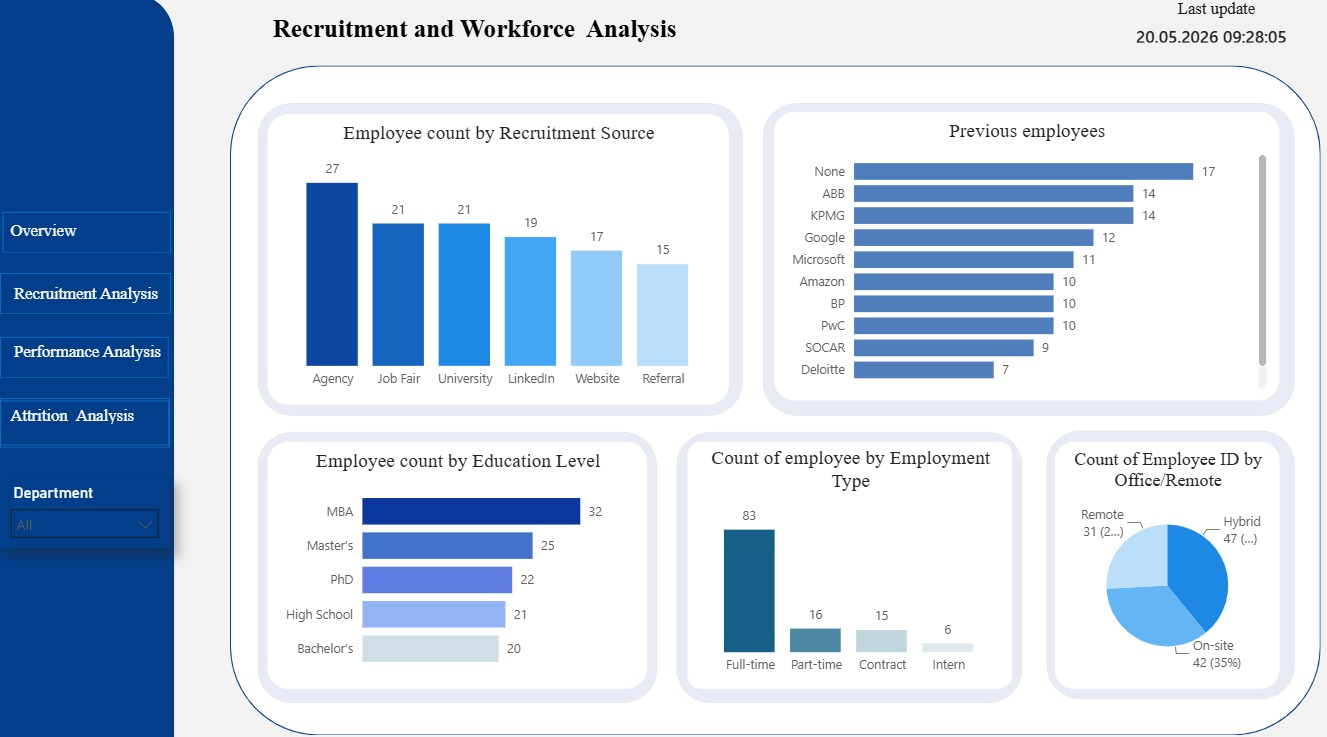

The dashboard page shown, as its layout file describes it:
{"tool":"powerbi","page":{"name":"Page 1","canvas":[1280,720],"ordinal":0},"visuals":[{"type":"shape","box":[220,69.4,1045.9,642.4],"z":0},{"type":"shape","box":[0,0,167.1,721.2],"z":1000},{"type":"textbox","box":[8.2,274.1,184.7,34.1],"z":30000},{"type":"textbox","box":[8.2,329.4,167.1,44.7],"z":31000},{"type":"textbox","box":[8.2,395.3,184.7,47.1],"z":32000},{"type":"textbox","box":[4.7,390.6,167.1,44.7],"z":33000},{"type":"shape","box":[2.4,209.7,161.8,39.6],"z":51000},{"type":"textbox","box":[4.3,213.5,145.7,39],"z":52000},{"type":"shape","box":[0,268.5,164.2,39.6],"z":53000},{"type":"shape","box":[0,329.6,161.8,39.6],"z":54000},{"type":"shape","box":[0,390.6,162.4,45.9],"z":56000},{"type":"shape","box":[0,388.3,163,45.5],"z":61000},{"type":"cardVisual","title":"Last update","fields":{"Rows":["Query1.Column1"]},"box":[1052.4,6.1,228,101.2],"z":62000},{"type":"shape","box":[252.9,92.3,200.1,131.8],"z":63000},{"type":"card","fields":{"Values":["Employee Data.Total Employees"]},"box":[267.3,101.9,185.8,122.2],"z":64000},{"type":"shape","box":[771.8,92.3,200.1,131.8],"z":65000},{"type":"shape","box":[496.2,92.3,200.1,131.8],"z":66000},{"type":"shape","box":[1027.1,92.3,200.1,131.8],"z":67000},{"type":"card","fields":{"Values":["Employee Data.Active Employees"]},"box":[510.6,101.9,185.8,122.2],"z":68000},{"type":"card","fields":{"Values":["Employee Data.Inactive Employees"]},"box":[786.2,101.9,185.8,122.2],"z":69000},{"type":"card","fields":{"Values":["Employee Data.Attrition Rate %"]},"box":[1041.5,101.9,185.8,122.2],"z":70000},{"type":"shape","box":[252.5,252.5,387.5,247.2],"z":71000},{"type":"clusteredBarChart","title":"Attrition rate by Department","fields":{"Category":["Employee Data.Department"],"Y":["Employee Data.Attrition Rate %"]},"box":[259.2,256.5,372.8,236.5],"z":72000},{"type":"shape","box":[658.7,252.5,314,247.2],"z":73000},{"type":"shape","box":[244.5,507.7,528,188.4],"z":74000},{"type":"lineChart","title":"Attrition Rate by Tenure Group","fields":{"Category":["Employee Data.Tenure Group"],"Y":["Employee Data.Attrition Rate %"]},"box":[666.7,257.9,299.3,235.2],"z":75000},{"type":"shape","box":[987.4,251.2,265.9,248.5],"z":76000},{"type":"pivotTable","fields":{"Rows":["Employee Data.Recruitment Source"],"Values":["Employee Data.Attrition Rate %"]},"box":[992.7,255.2,256.5,241.8],"z":77000},{"type":"columnChart","title":"Attrition Rate by Performance Rating (Current Year)","fields":{"Category":["Employee Data.Performance Rating (Current Year)"],"Y":["Employee Data.Attrition Rate %"]},"box":[252.5,514.4,509.1,176.4],"z":78000},{"type":"textbox","box":[220.5,6.7,503.7,62.8],"z":79000},{"type":"shape","box":[793.7,507.7,436.9,188.4],"z":80000},{"type":"textbox","box":[807,514.4,410.2,183],"z":81000},{"type":"slicer","fields":{"Values":["Employee Data.Department"]},"box":[0,466.3,161.7,65.5],"z":82000}]}

Visuals, with their boxes on the page's 1280x720 design canvas (x1, y1, x2, y2). These are canvas units, not pixel positions in the 1327x737 screenshot, which may show the page scaled, cropped or inside an application window:
shape: (x1=220, y1=69, x2=1266, y2=712)
shape: (x1=0, y1=0, x2=167, y2=721)
textbox: (x1=8, y1=274, x2=193, y2=308)
textbox: (x1=8, y1=329, x2=175, y2=374)
textbox: (x1=8, y1=395, x2=193, y2=442)
textbox: (x1=5, y1=391, x2=172, y2=435)
shape: (x1=2, y1=210, x2=164, y2=249)
textbox: (x1=4, y1=214, x2=150, y2=252)
shape: (x1=0, y1=268, x2=164, y2=308)
shape: (x1=0, y1=330, x2=162, y2=369)
shape: (x1=0, y1=391, x2=162, y2=436)
shape: (x1=0, y1=388, x2=163, y2=434)
"Last update" cardVisual: (x1=1052, y1=6, x2=1280, y2=107)
shape: (x1=253, y1=92, x2=453, y2=224)
card - Employee Data.Total Employees: (x1=267, y1=102, x2=453, y2=224)
shape: (x1=772, y1=92, x2=972, y2=224)
shape: (x1=496, y1=92, x2=696, y2=224)
shape: (x1=1027, y1=92, x2=1227, y2=224)
card - Employee Data.Active Employees: (x1=511, y1=102, x2=696, y2=224)
card - Employee Data.Inactive Employees: (x1=786, y1=102, x2=972, y2=224)
card - Employee Data.Attrition Rate %: (x1=1042, y1=102, x2=1227, y2=224)
shape: (x1=252, y1=252, x2=640, y2=500)
"Attrition rate by Department" clusteredBarChart: (x1=259, y1=256, x2=632, y2=493)
shape: (x1=659, y1=252, x2=973, y2=500)
shape: (x1=244, y1=508, x2=772, y2=696)
"Attrition Rate by Tenure Group" lineChart: (x1=667, y1=258, x2=966, y2=493)
shape: (x1=987, y1=251, x2=1253, y2=500)
pivotTable - Employee Data.Recruitment Source x Employee Data.Attrition Rate %: (x1=993, y1=255, x2=1249, y2=497)
"Attrition Rate by Performance Rating (Current Year)" columnChart: (x1=252, y1=514, x2=762, y2=691)
textbox: (x1=220, y1=7, x2=724, y2=70)
shape: (x1=794, y1=508, x2=1231, y2=696)
textbox: (x1=807, y1=514, x2=1217, y2=697)
slicer - Employee Data.Department: (x1=0, y1=466, x2=162, y2=532)
